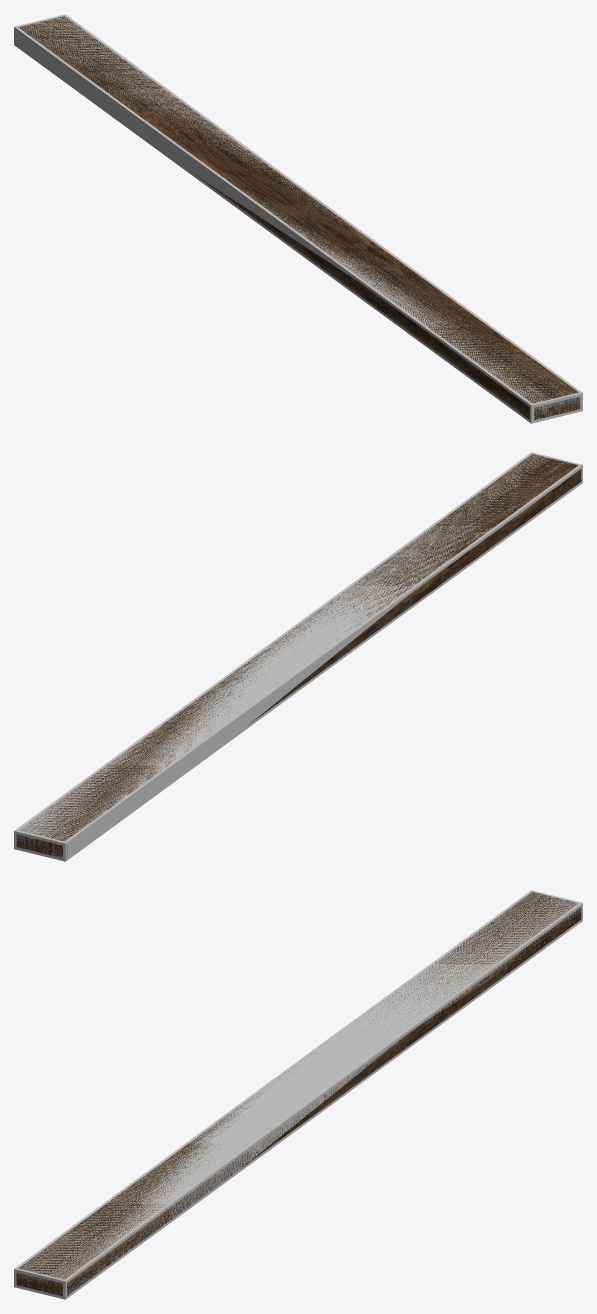
The model's file is SM_Plank.fbx.
3 renders of one model, top to bottom at view 1: azimuth 30°, elevation 25°; view 2: azimuth 150°, elevation 25°; view 3: azimuth 330°, elevation 25°, orthographic.
Visible parts, largest first — view 1: SM_Plank, SM_Plank_ConvexHulls; view 2: SM_Plank_ConvexHulls, SM_Plank; view 3: SM_Plank_ConvexHulls, SM_Plank.
Boxes of the visible parts, x1,y1,x2,y2 form: SM_Plank: [18, 16, 580, 420]; SM_Plank_ConvexHulls: [14, 14, 582, 423]; SM_Plank_ConvexHulls: [14, 452, 582, 861]; SM_Plank: [16, 454, 581, 858]; SM_Plank_ConvexHulls: [14, 890, 582, 1299]; SM_Plank: [16, 892, 581, 1296].
Bounding box in the file's own units: 38.67 × 666 × 13.12.
Materials: 2 (1 with a texture image).
